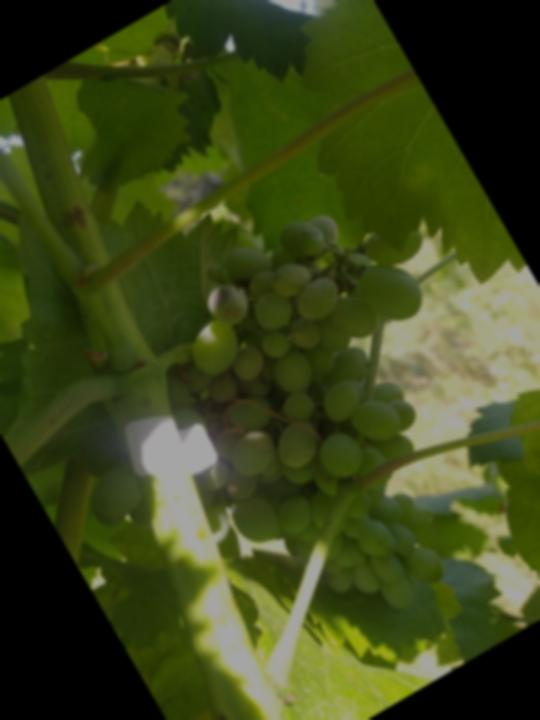grape: (9, 156, 540, 720)
